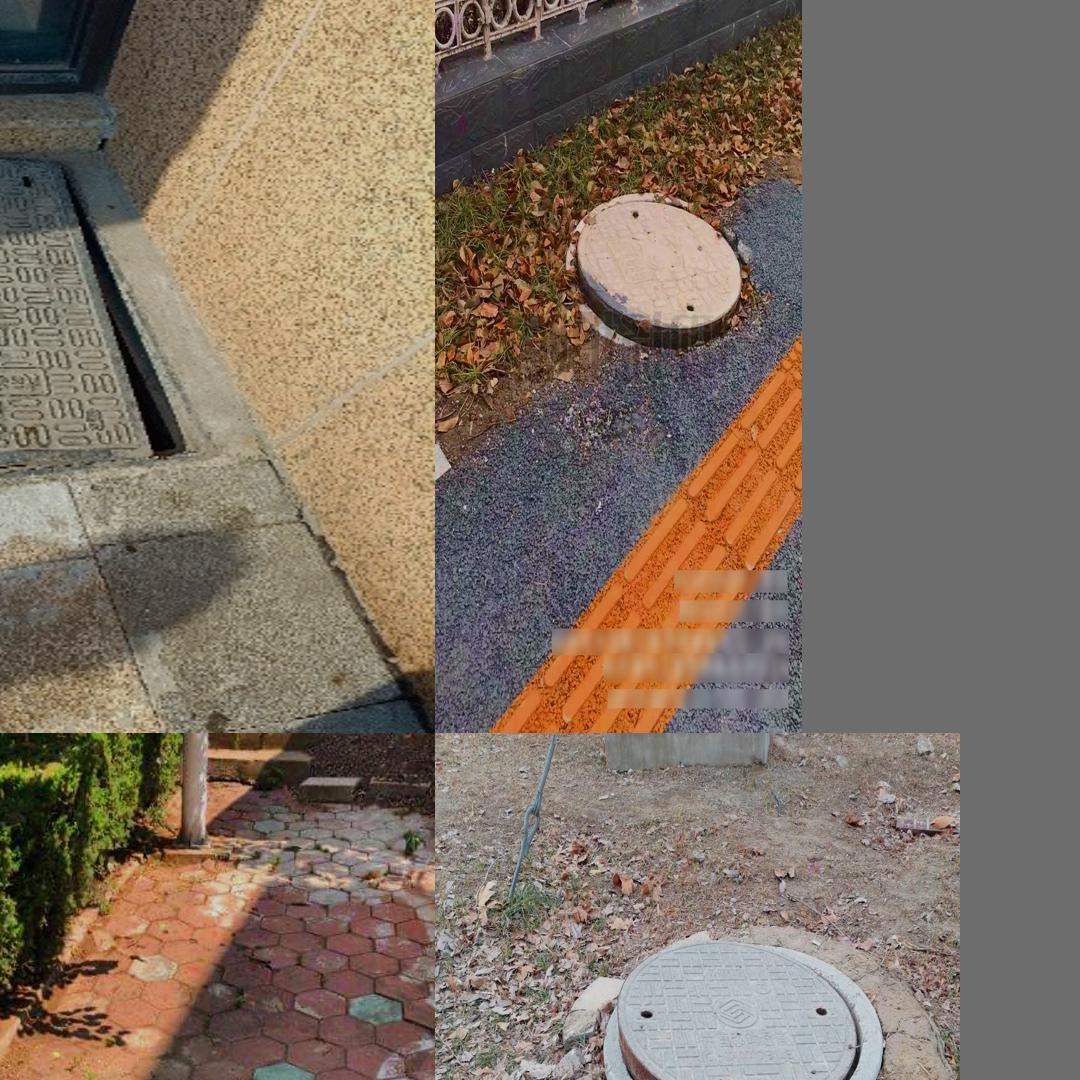uncovered: (0, 141, 215, 492), (603, 939, 882, 1080), (565, 189, 747, 343)
